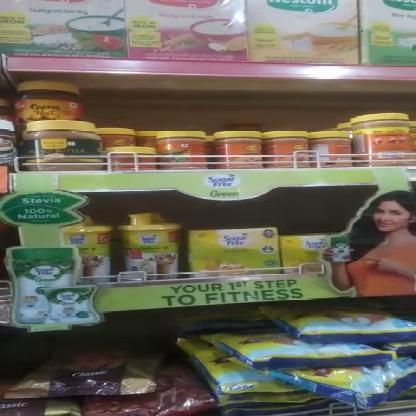SUGAR FREE NATURA SACHET 50: (189, 230, 278, 268), (281, 234, 336, 262)
